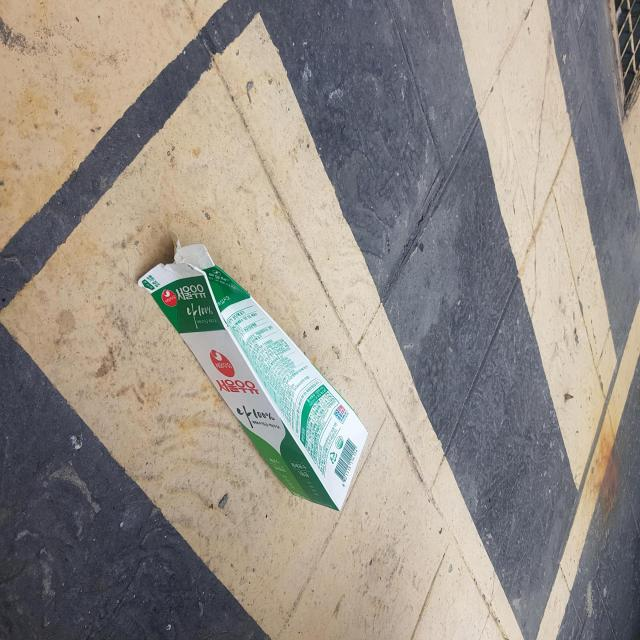paperpack: (137, 237, 367, 510)
